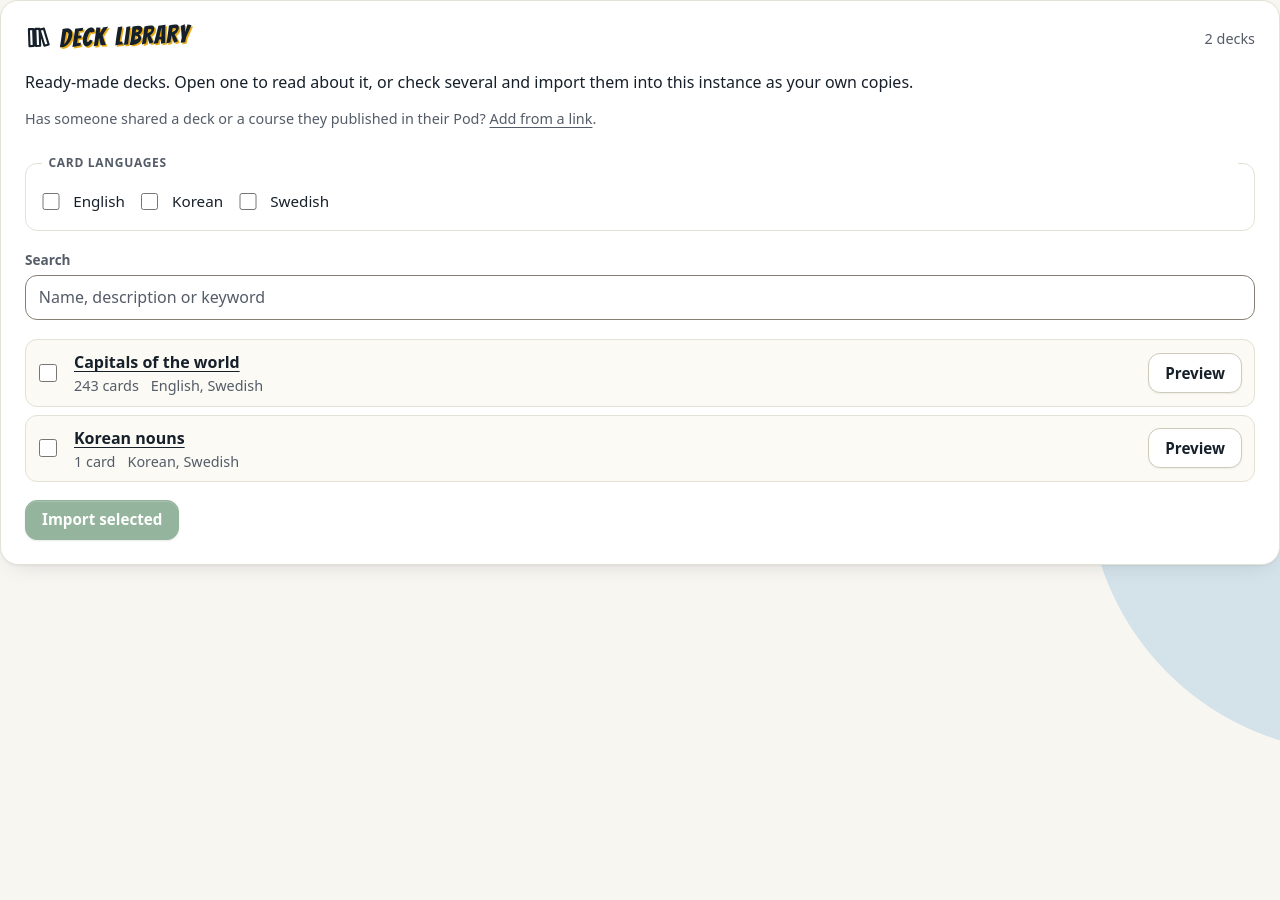
LibraryScreen › card languages › narrows the list to the decks with cards in every checked language
The width and height of the screenshot is (1280, 900).
Click the checkbox labelled "Swedish" at (248, 202), box [239,193,257,210]
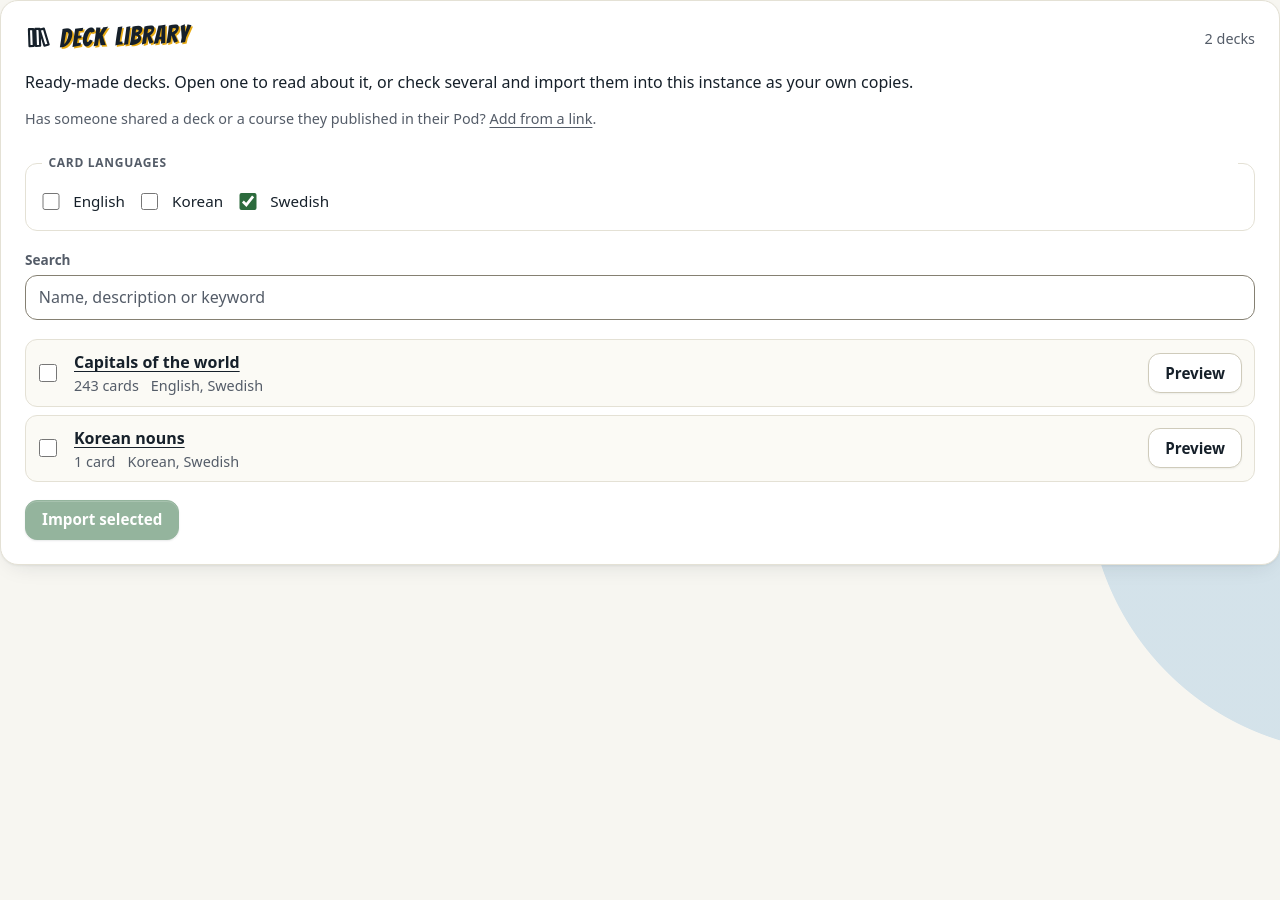
Expected: the text "2 decks" is shown, [1205,28,1255,50]
Click the checkbox labelled "Korean" at (150, 202), box [141,193,158,210]
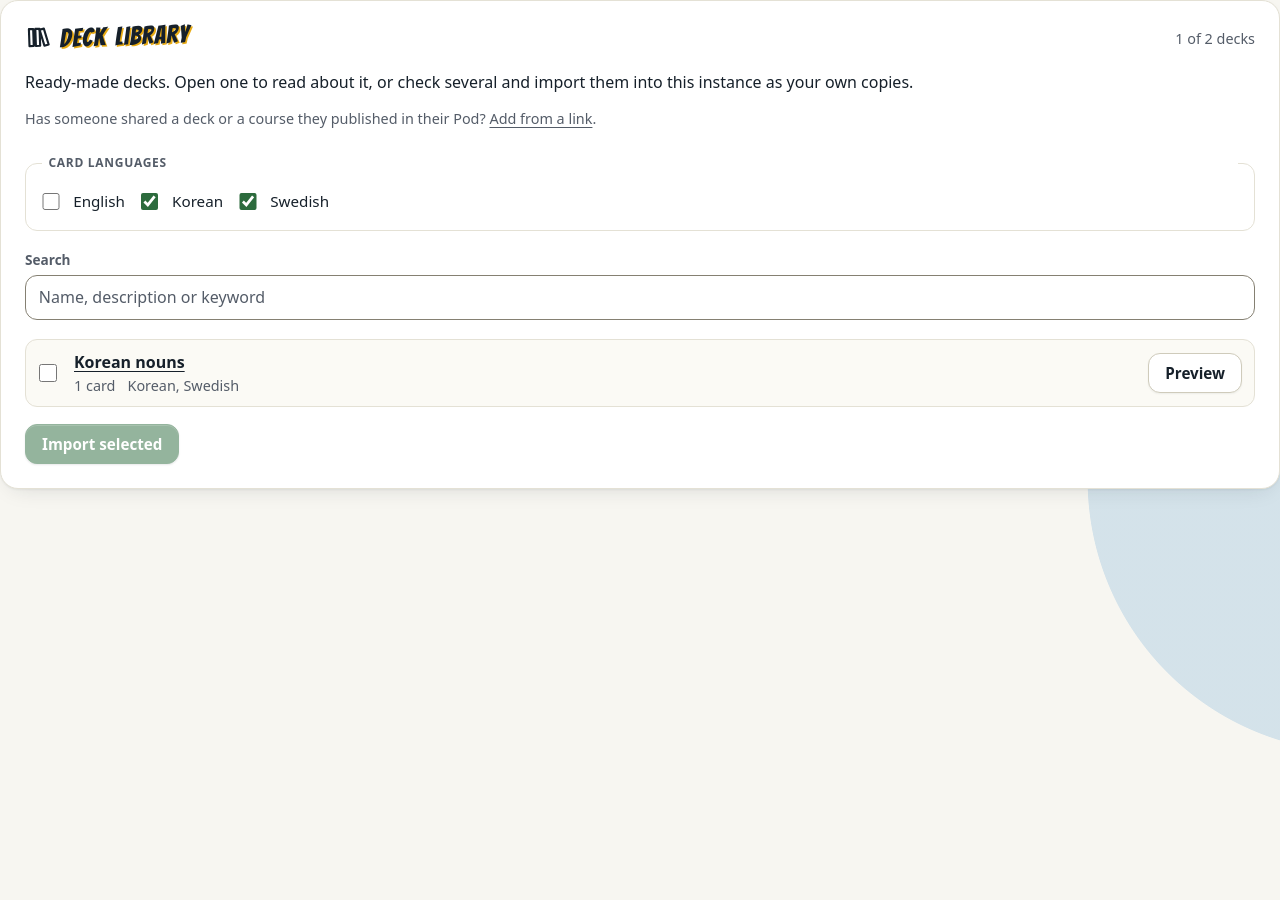
Expected: the checkbox named "Korean nouns" is shown, [39,364,57,382]
Expected: the link "Capitals of the world" is gone
Expected: the text "1 of 2 decks" is shown, [1175,28,1255,50]
Click the checkbox labelled "English" at (51, 202), box [42,193,60,210]
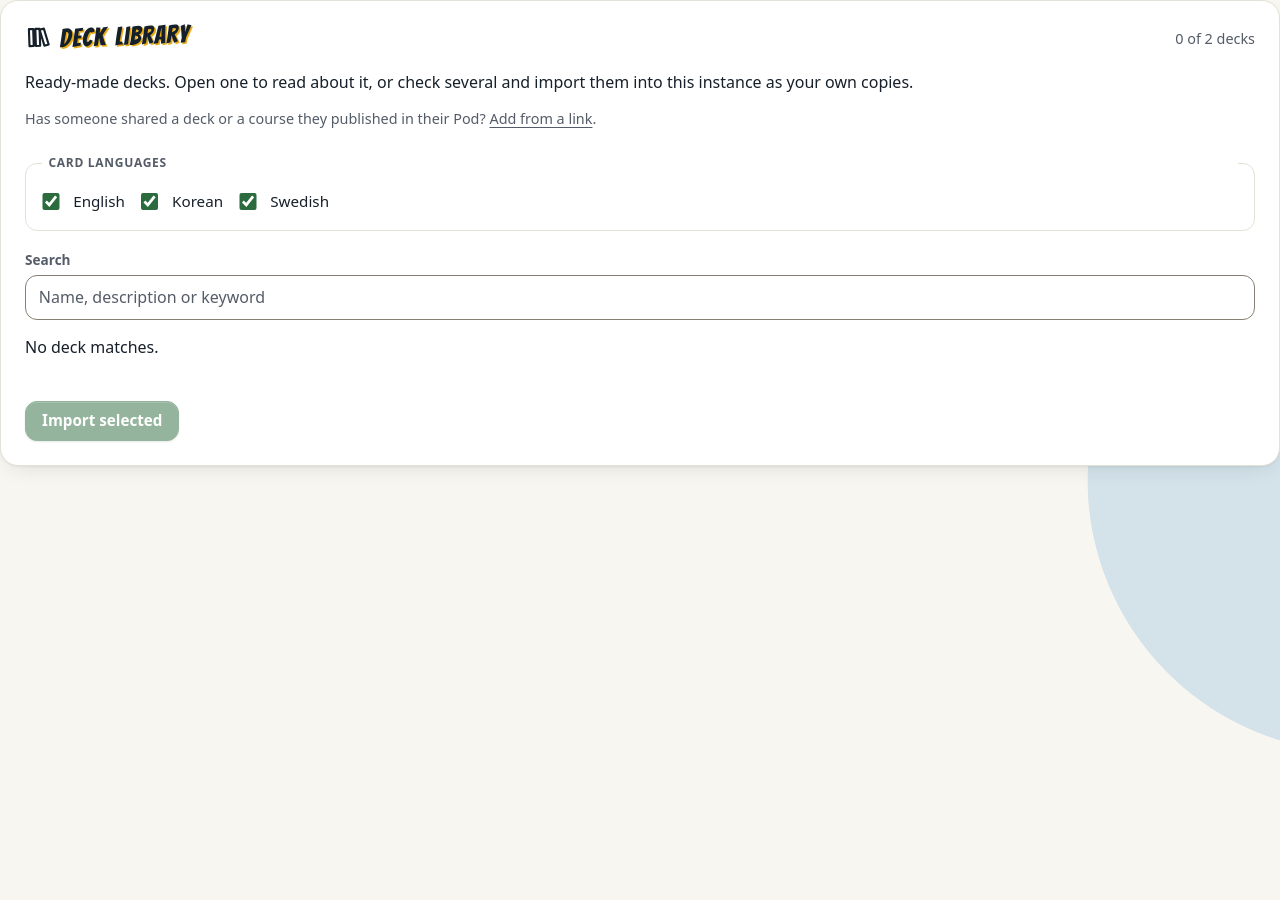
Expected: the text "No deck matches." is shown, [25,336,158,358]
